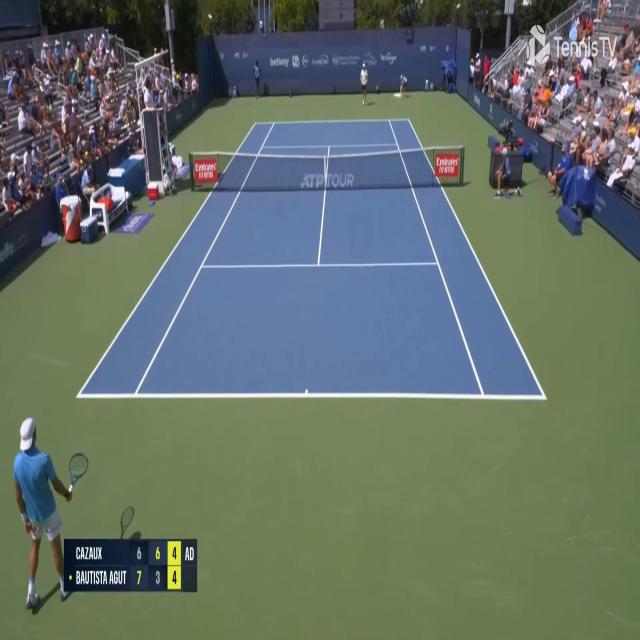tennis-player: (10, 410, 90, 623), (360, 61, 369, 106)
